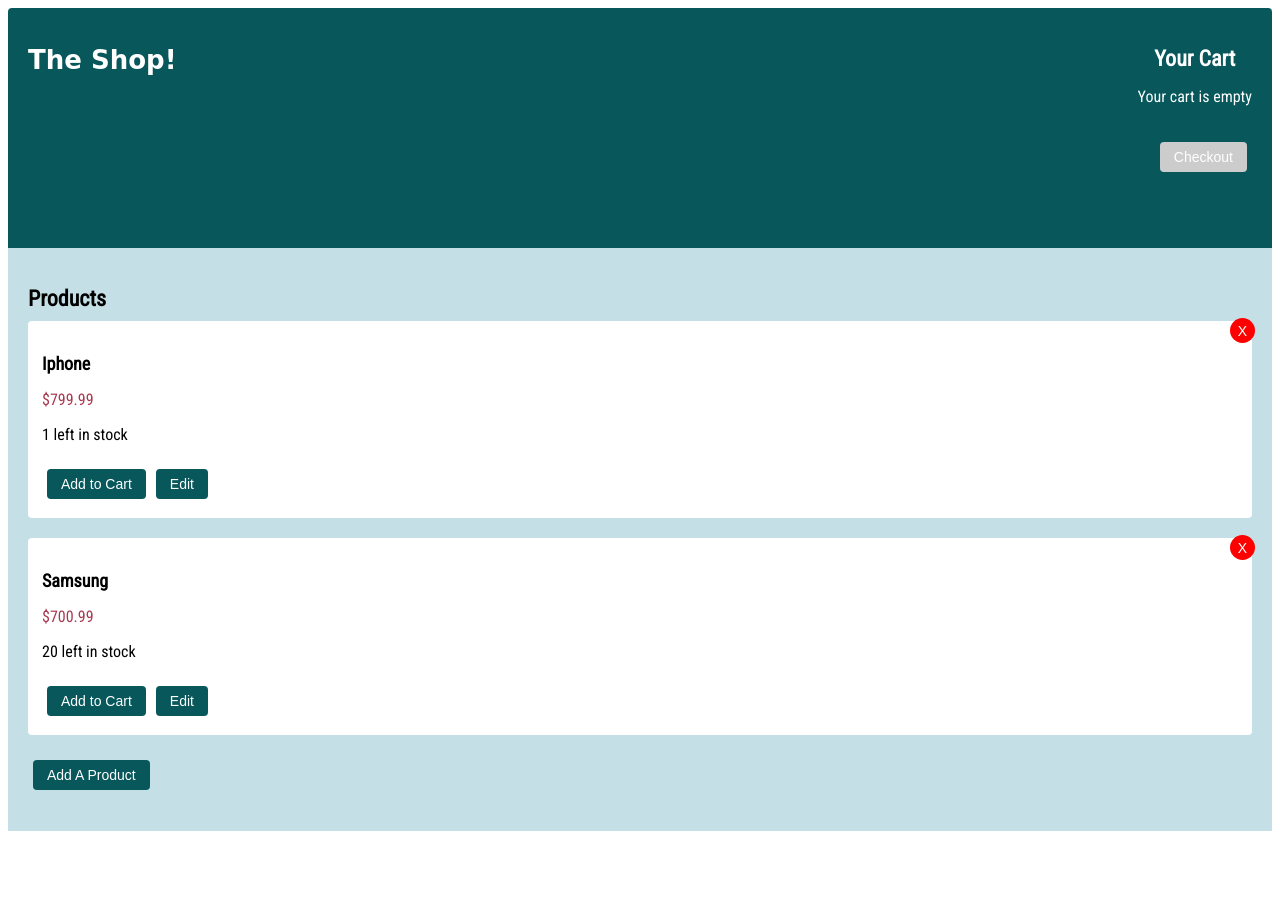
Test case: Clicking an Edit button renders the Edit Product form correctly
The image size is (1280, 900).
Step 1. Click the button "Edit" below "799.99" → {"x": 182, "y": 484}, box top-left (156, 469), bottom-right (208, 499)
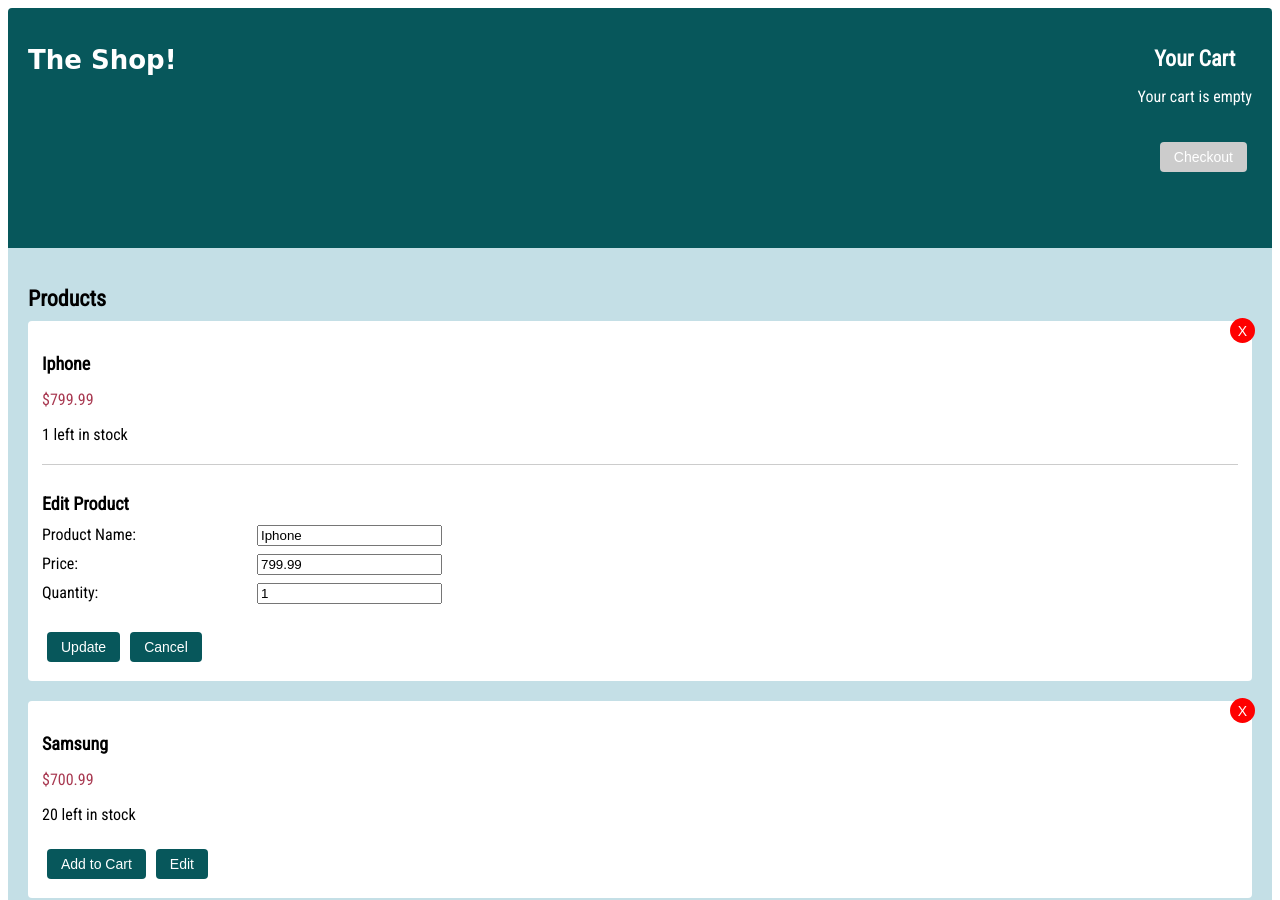
Expected: the form named "edit a product" is shown, top-left (42, 520), bottom-right (442, 667)
Expected: the field labelled "Product Name:" holds "Iphone", top-left (257, 525), bottom-right (442, 546)
Expected: the number field labelled "Price:" holds "799.99", top-left (257, 554), bottom-right (442, 575)
